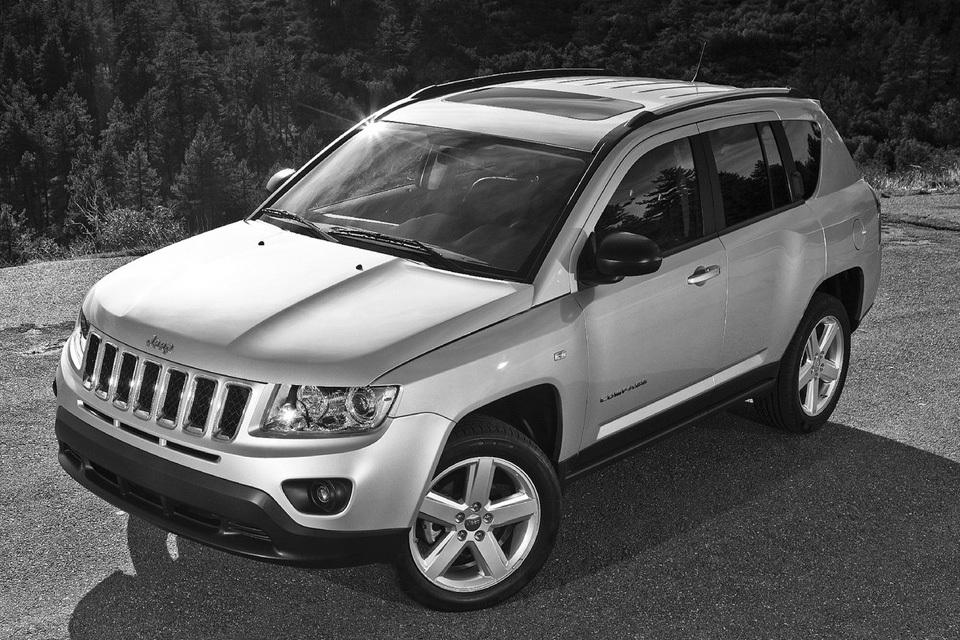car: (55, 71, 883, 607)
